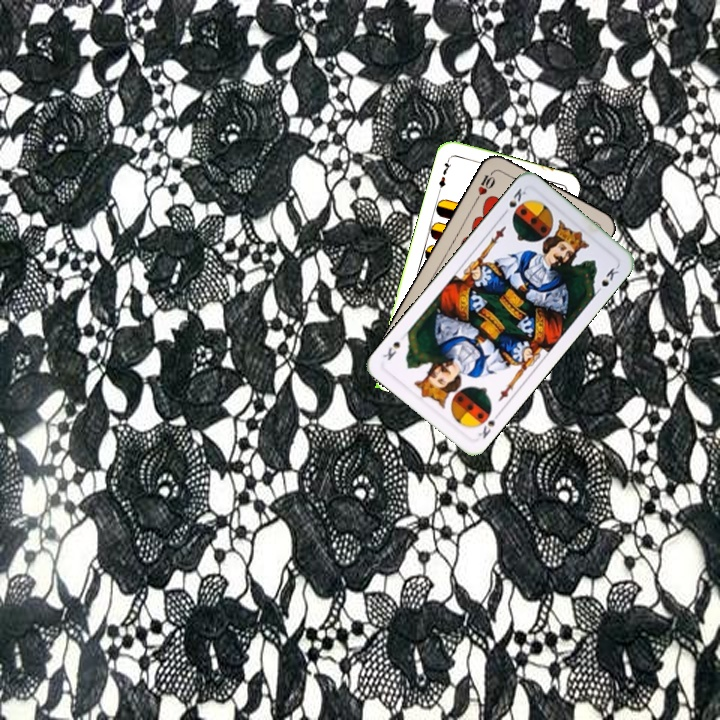E7: (435, 154, 454, 194)
H10: (471, 167, 498, 204)
SK: (498, 184, 529, 219), (474, 408, 503, 441)
